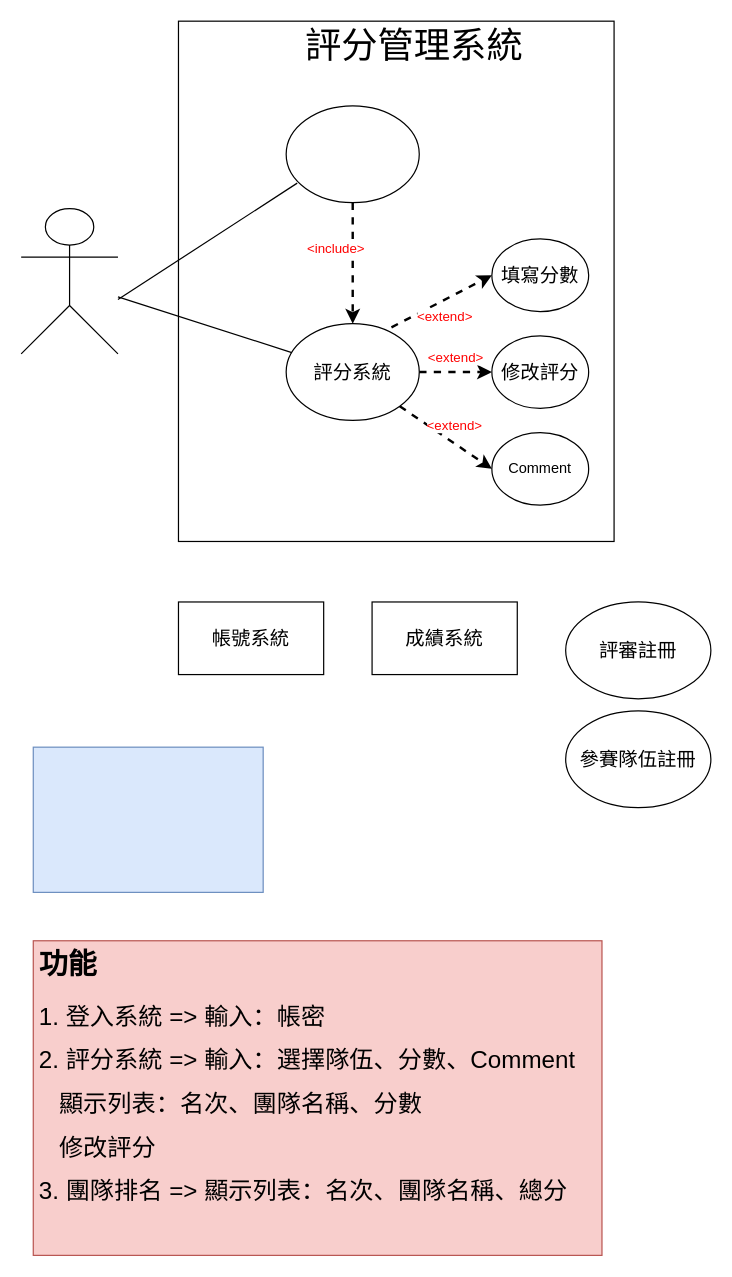
The diagram is 732 pixels wide and 1277 high, and some of its shapes have lost their labels. The centre of each missing label's shape, as x and y in pixels:
"使用者 評審" belongs at (x=147, y=819).
"登入 (身分辨別)" belongs at (x=352, y=154).
"評審" belongs at (x=69, y=281).
